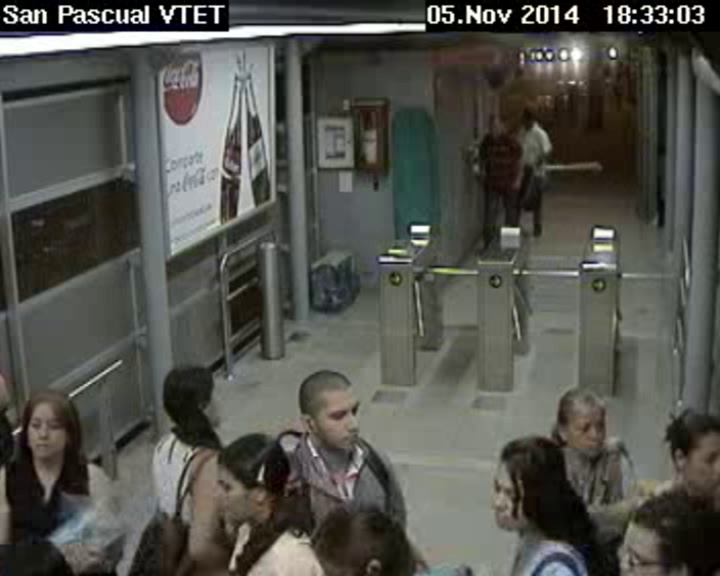person: (204, 428, 308, 534), (611, 480, 720, 576), (308, 494, 421, 576), (486, 432, 568, 544), (651, 394, 720, 497), (296, 364, 363, 455), (158, 358, 225, 438), (21, 386, 82, 467), (549, 382, 609, 458), (483, 114, 505, 141), (520, 105, 538, 129)
